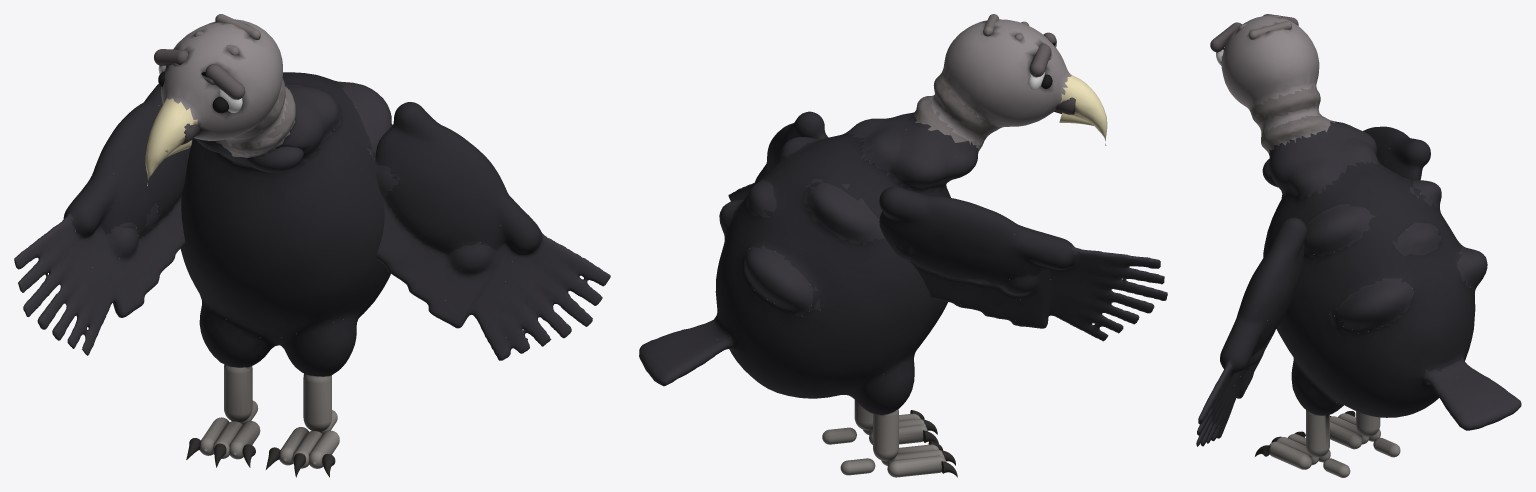
Rendered from skynda-dig.glb.
The picture shows the model from 3 angles, left to right: view 1: azimuth 30°, elevation 25°; view 2: azimuth 150°, elevation 25°; view 3: azimuth 270°, elevation 25°; orthographic projection. The views are drawn at different scales.
Parts seen in each view (by area): view 1: urubu__r0, asaE__r0, asa__r0, urubu__r9, urubu__r1, urubu__r31, urubu__r30, urubu__r6, urubu__r14; view 2: urubu__r0, asa__r0, asaE__r0, urubu__r1, urubu__r2; view 3: urubu__r0, asaE__r0, asa__r0, urubu__r9, urubu__r14, urubu__r6, urubu__r1, urubu__r30, urubu__r8, urubu__r16.
Part boxes in pixels (<box>): urubu__r0: <box>145,19,392,376</box>; asaE__r0: <box>375,102,610,360</box>; asa__r0: <box>14,84,193,355</box>; urubu__r9: <box>303,373,331,431</box>; urubu__r1: <box>224,364,252,422</box>; urubu__r31: <box>246,146,303,172</box>; urubu__r30: <box>205,64,245,99</box>; urubu__r6: <box>229,421,260,459</box>; urubu__r14: <box>309,430,339,468</box>; urubu__r0: <box>639,19,1107,414</box>; asa__r0: <box>879,186,1167,341</box>; asaE__r0: <box>728,111,828,201</box>; urubu__r1: <box>873,409,898,461</box>; urubu__r2: <box>887,455,946,477</box>; urubu__r0: <box>1221,15,1521,430</box>; asaE__r0: <box>1196,217,1307,446</box>; asa__r0: <box>1363,126,1430,180</box>; urubu__r9: <box>1306,410,1329,457</box>; urubu__r14: <box>1269,441,1312,469</box>; urubu__r6: <box>1330,422,1362,449</box>; urubu__r1: <box>1356,411,1380,436</box>; urubu__r30: <box>1210,22,1241,52</box>; urubu__r8: <box>1373,437,1400,457</box>; urubu__r16: <box>1323,458,1350,477</box>.
Bounding box in the file's own units: 1.95 × 1.64 × 1.21.
